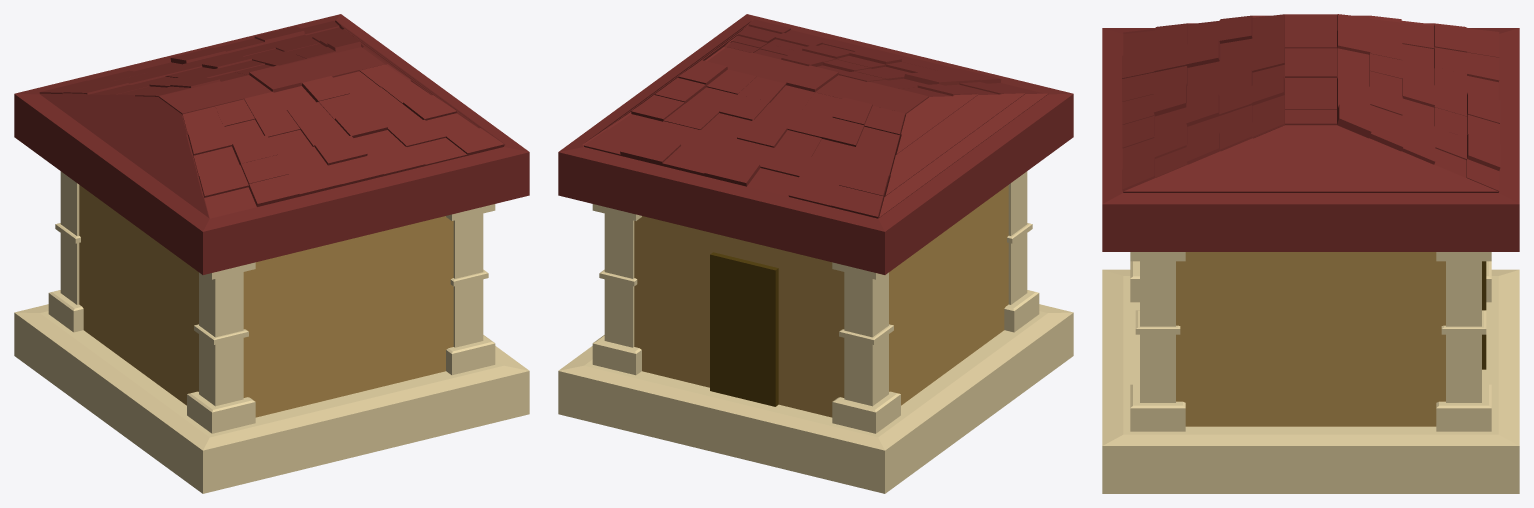
The model's file is houseV1.fbx.
3 views of the same model, side by side, from view 1: azimuth 30°, elevation 25°; view 2: azimuth 150°, elevation 25°; view 3: azimuth 270°, elevation 25° (orthographic). The views are drawn at different scales.
Parts seen in each view (by area): view 1: Cube.005; view 2: Cube.005; view 3: Cube.005.
Boxes of the visible parts, box(x1,y1,x2,y2) form: Cube.005: box(14, 14, 529, 493); Cube.005: box(558, 14, 1073, 493); Cube.005: box(1102, 14, 1519, 493).
Size of the model in its own units: 1500 by 1357 by 1500.
